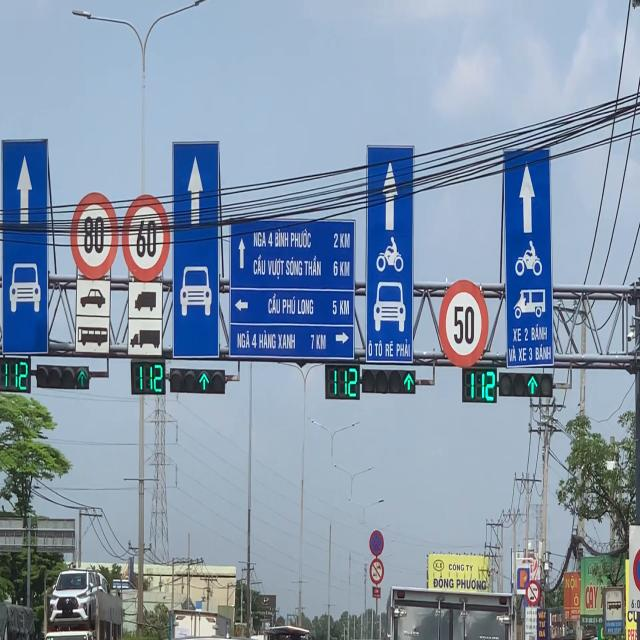Ben xe buyt: (604, 586, 624, 634)
Cam con lai: (370, 557, 384, 586), (526, 579, 540, 604)
Cam dung va do: (369, 530, 384, 556)
Toc do toi da: (438, 280, 489, 368), (70, 192, 119, 280), (122, 194, 170, 282)
